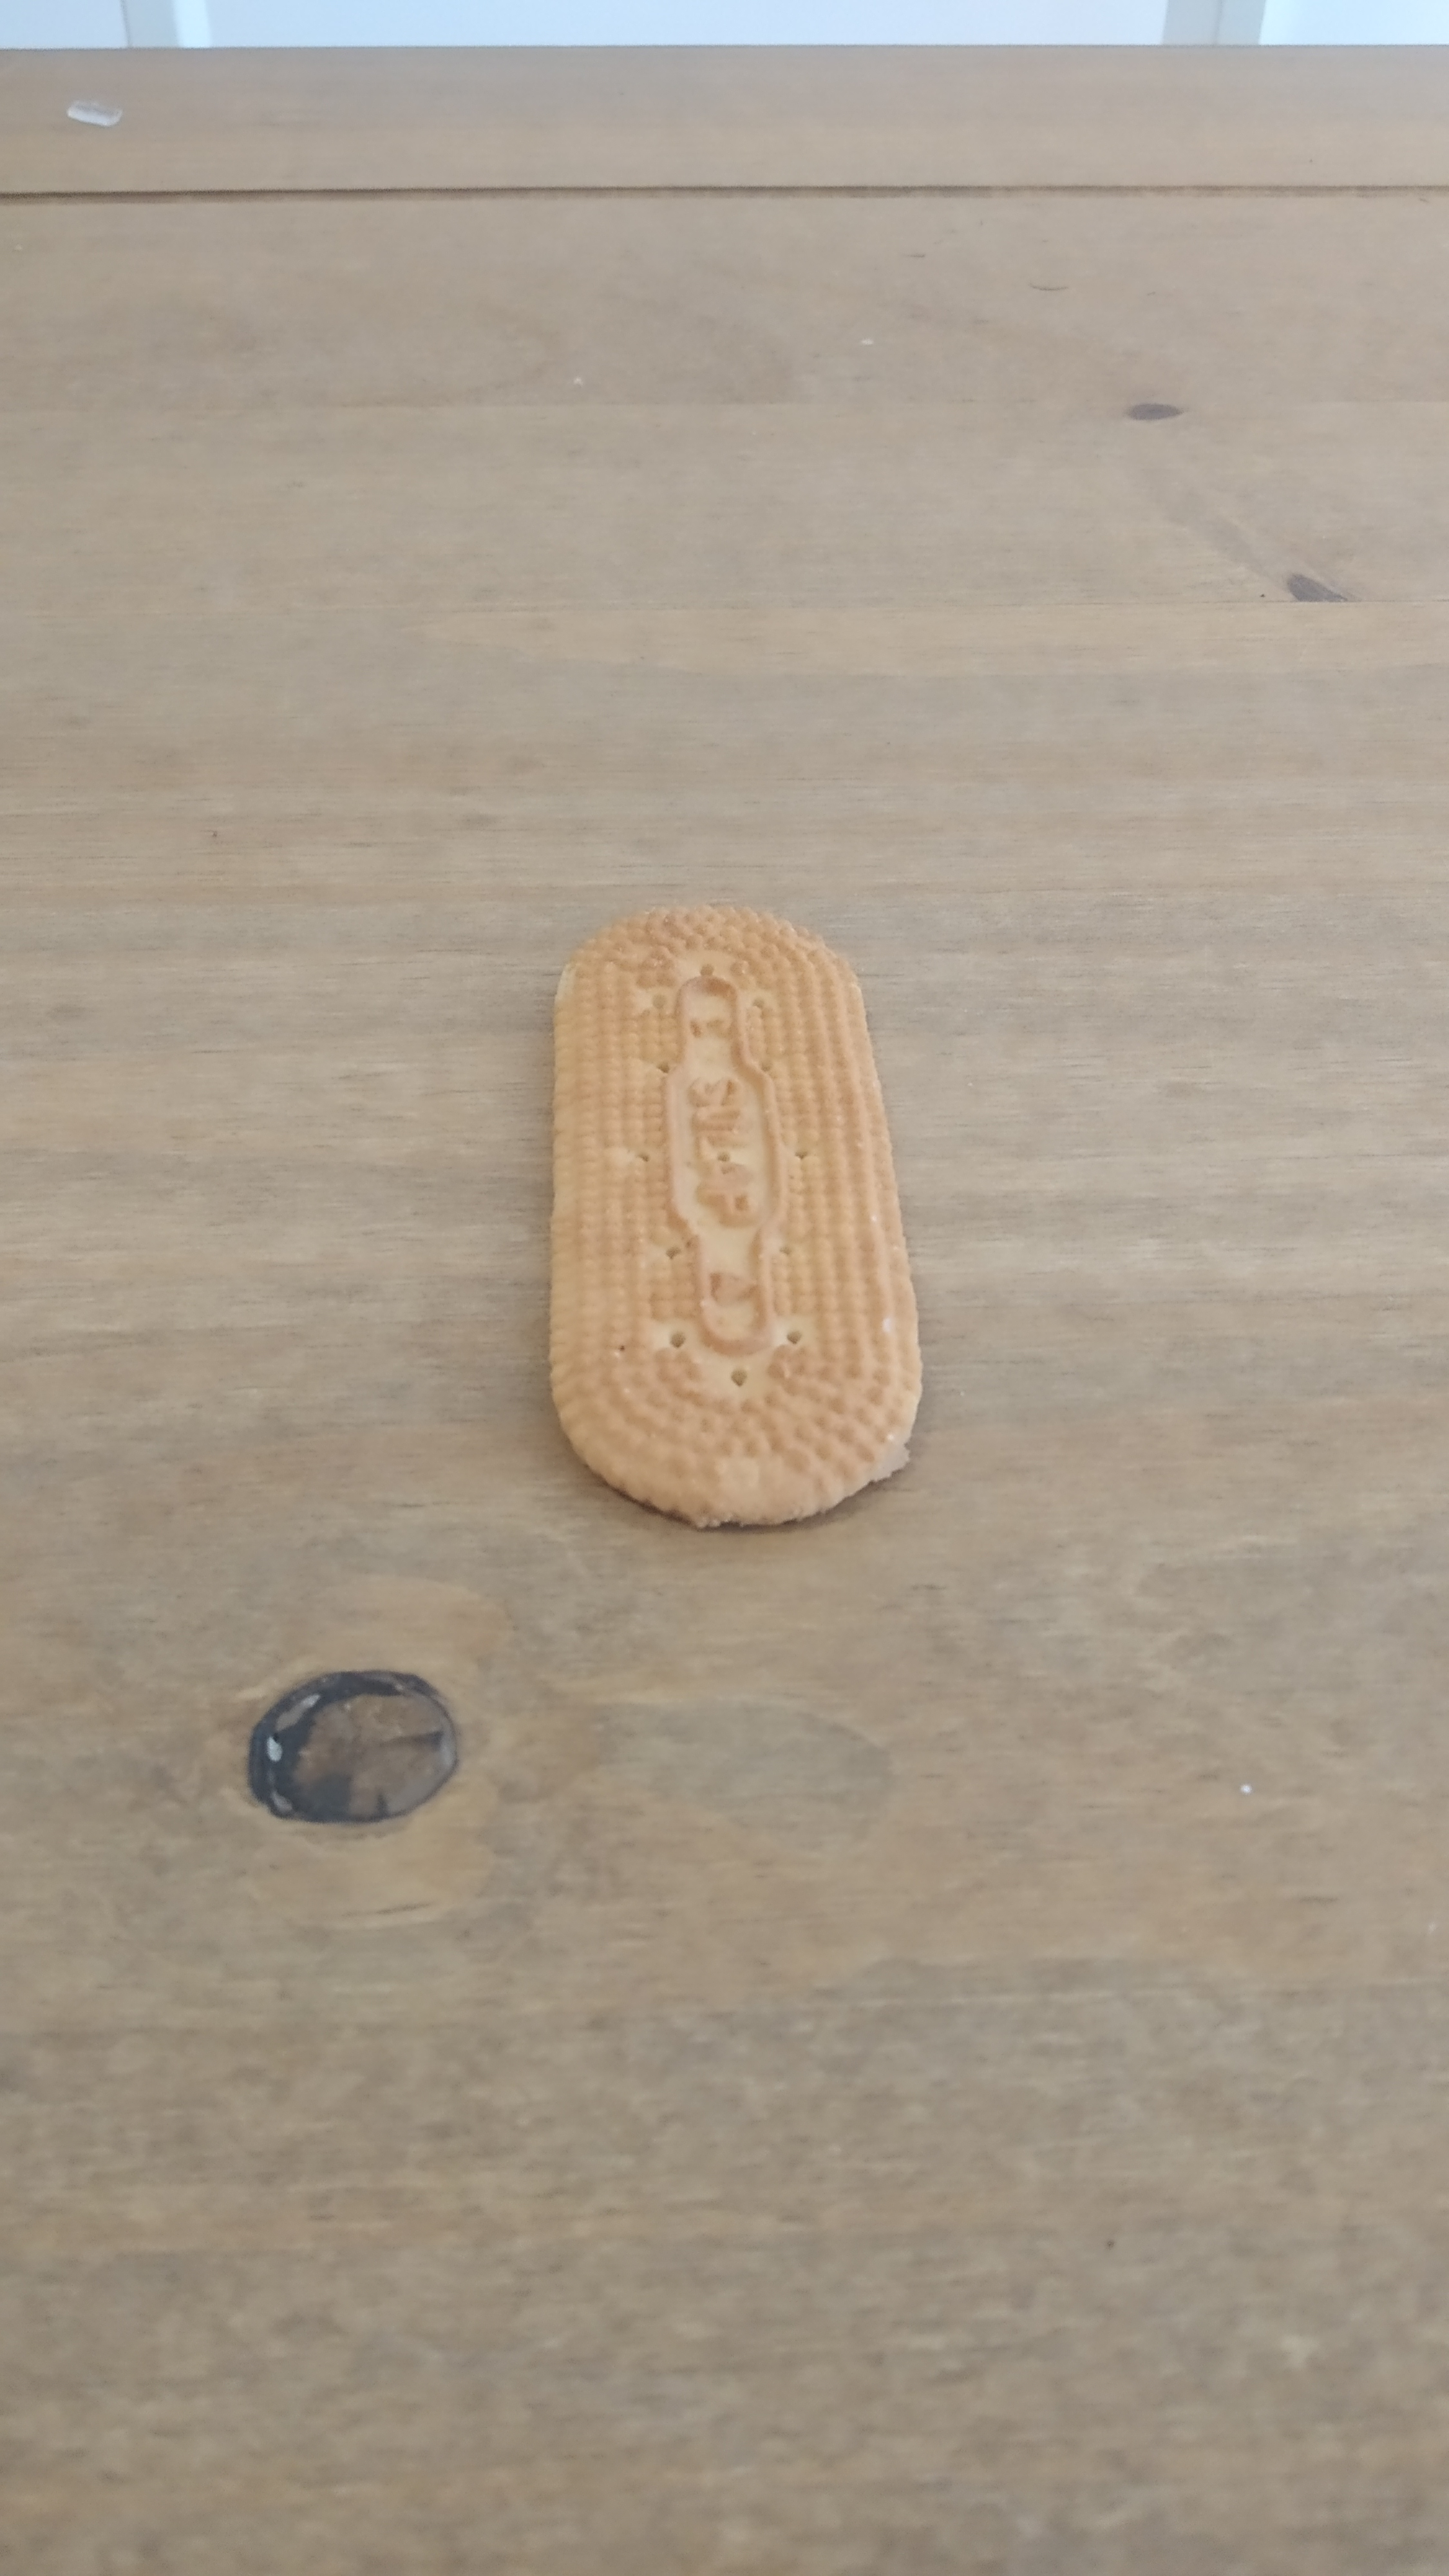solar: (548, 908, 924, 1525)
